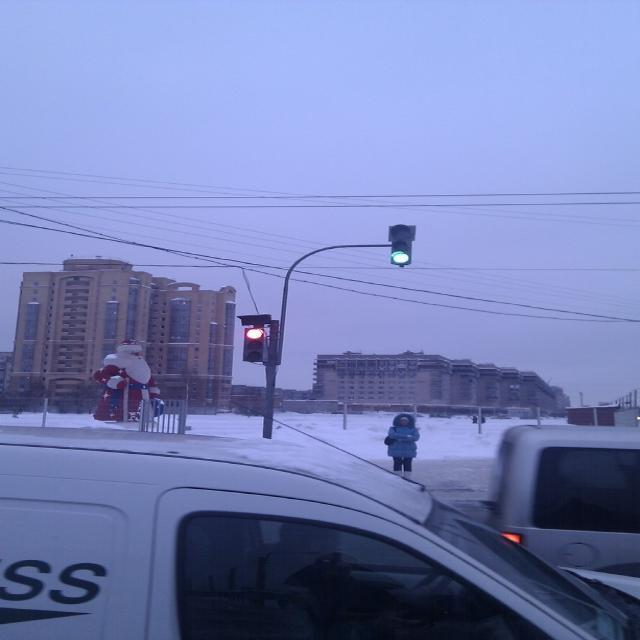traffic light: (389, 225, 413, 265), (244, 327, 264, 362)
